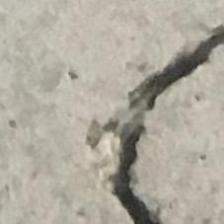Crack: (88, 20, 224, 224)
